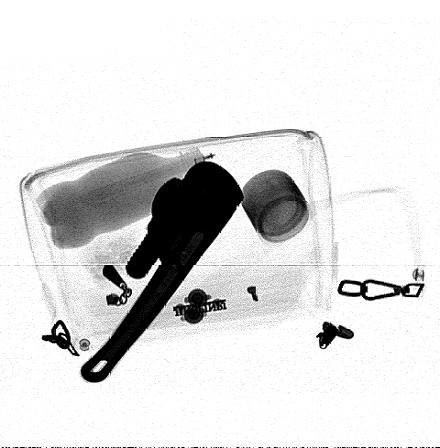Wrench: (79, 159, 245, 386)
